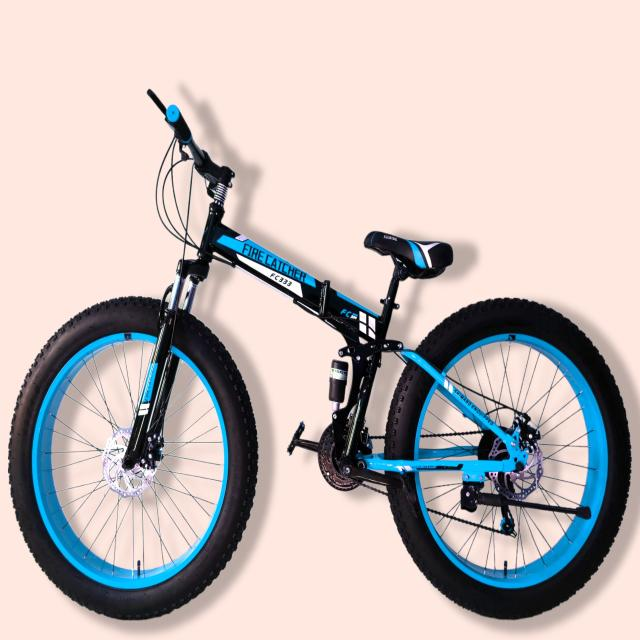bicycle: (9, 90, 630, 618)
